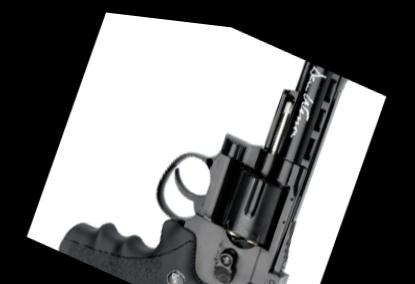pistol: (52, 5, 360, 281)
